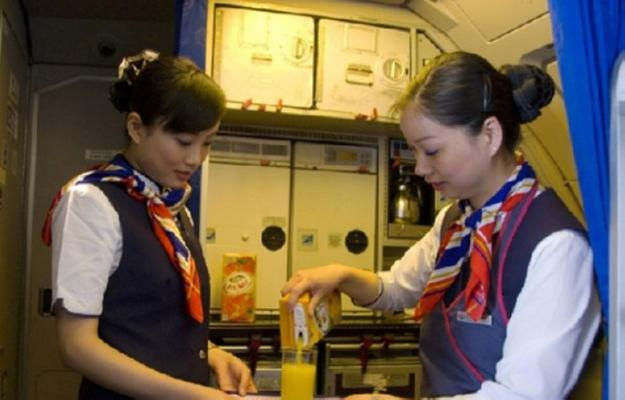person: (282, 52, 604, 400)
